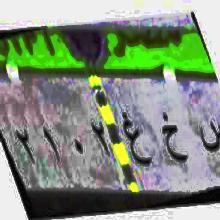0: (68, 132, 88, 164)
1: (42, 116, 62, 174)
2: (15, 122, 37, 174), (90, 119, 110, 170)
ghayn: (122, 100, 152, 175)
khaa: (158, 112, 188, 171)
